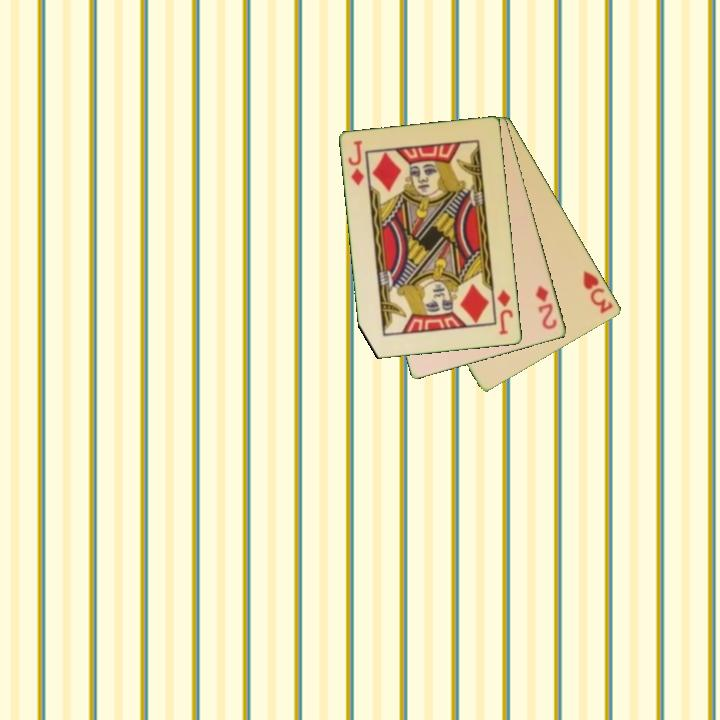2d: (532, 282, 560, 332)
3h: (580, 267, 616, 317)
Jd: (494, 286, 516, 338), (345, 137, 367, 188)
